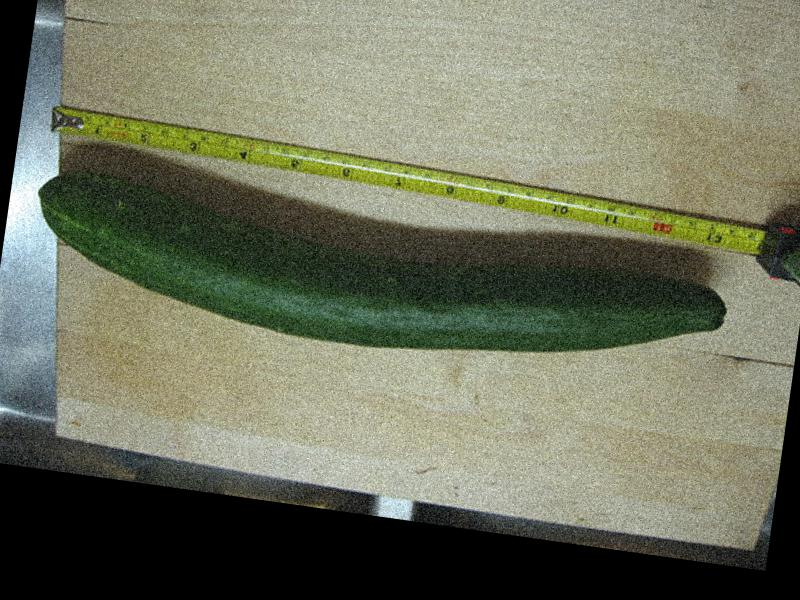Cucumber: (23, 164, 733, 395)
